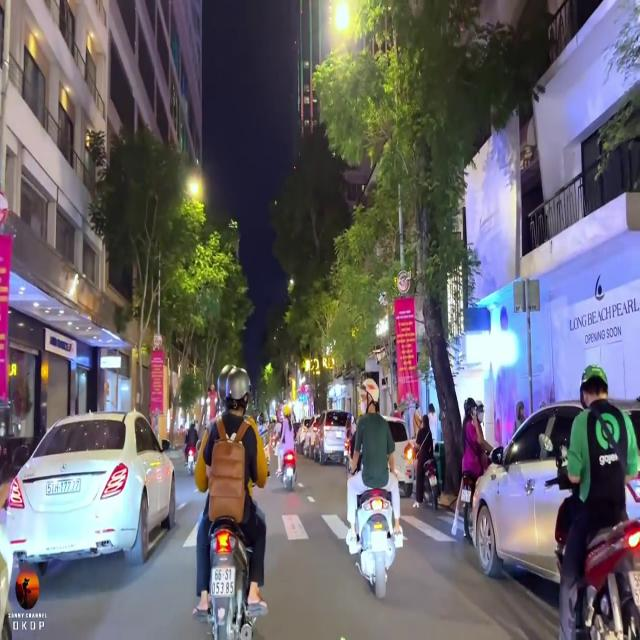bien_trang: (209, 565, 234, 595), (46, 480, 83, 496)
